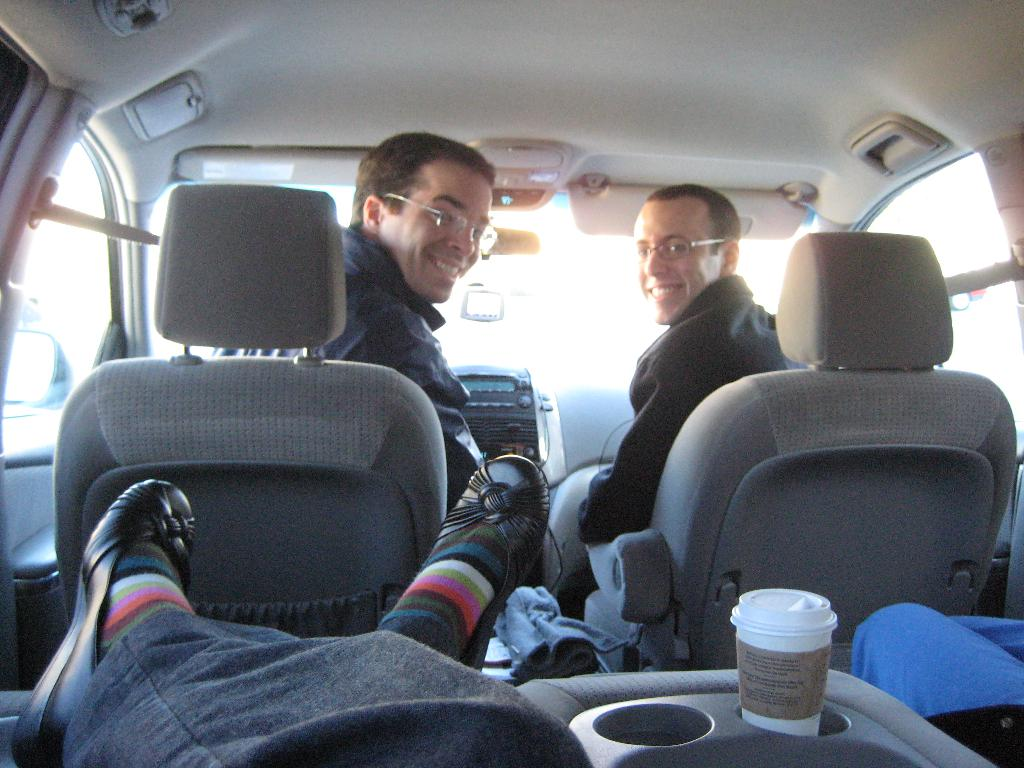Car: (0, 0, 1023, 765)
